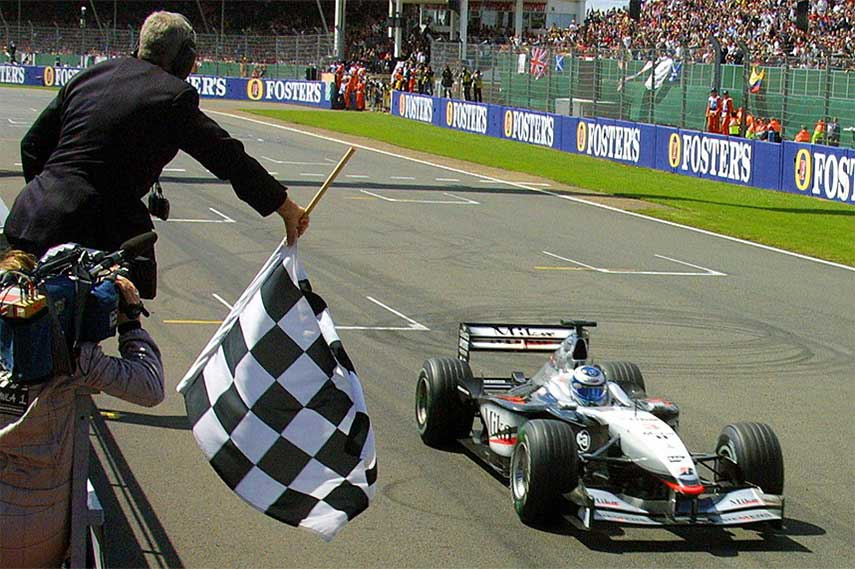Flag: (175, 237, 380, 543)
